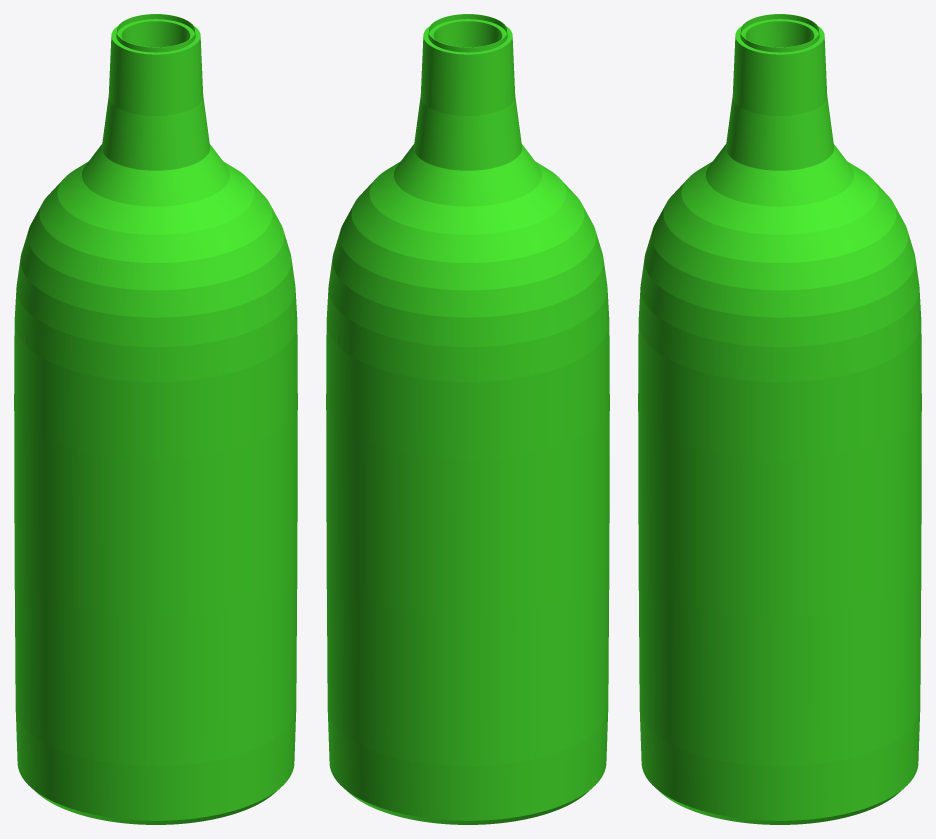
The model's file is bootle.FBX.
3 renders of one model, left to right at view 1: azimuth 30°, elevation 25°; view 2: azimuth 150°, elevation 25°; view 3: azimuth 270°, elevation 25°, orthographic.
Parts seen in each view (by area): view 1: default; view 2: default; view 3: default.
Boxes of the visible parts, x1,y1,x2,y2 form: default: (14,14,297,824); default: (326,14,609,824); default: (638,14,921,824).
Bounding box in the file's own units: 4.85 × 13.97 × 4.85.
